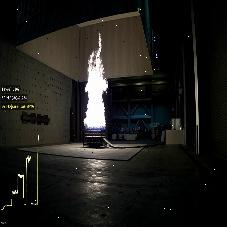fire: (82, 34, 111, 135)
